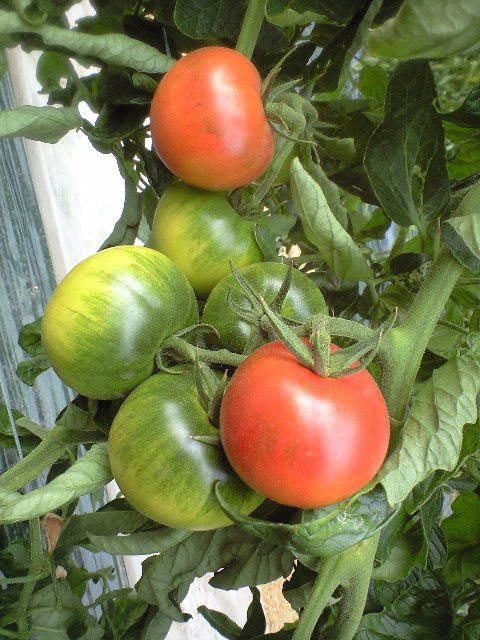stems: (245, 129, 305, 210), (167, 335, 245, 365), (262, 99, 304, 129), (262, 317, 316, 340), (311, 319, 332, 375)
tomato: (218, 336, 391, 510), (106, 363, 268, 530), (39, 245, 198, 399), (149, 45, 277, 190), (153, 182, 270, 301), (198, 262, 328, 364)
